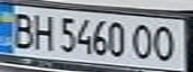0: (106, 19, 130, 58)
4: (75, 16, 93, 55)
5: (54, 14, 78, 53)
6: (90, 17, 109, 56)
B: (6, 9, 39, 50)
H: (30, 11, 57, 52)
O: (148, 22, 181, 63), (127, 21, 160, 61)
